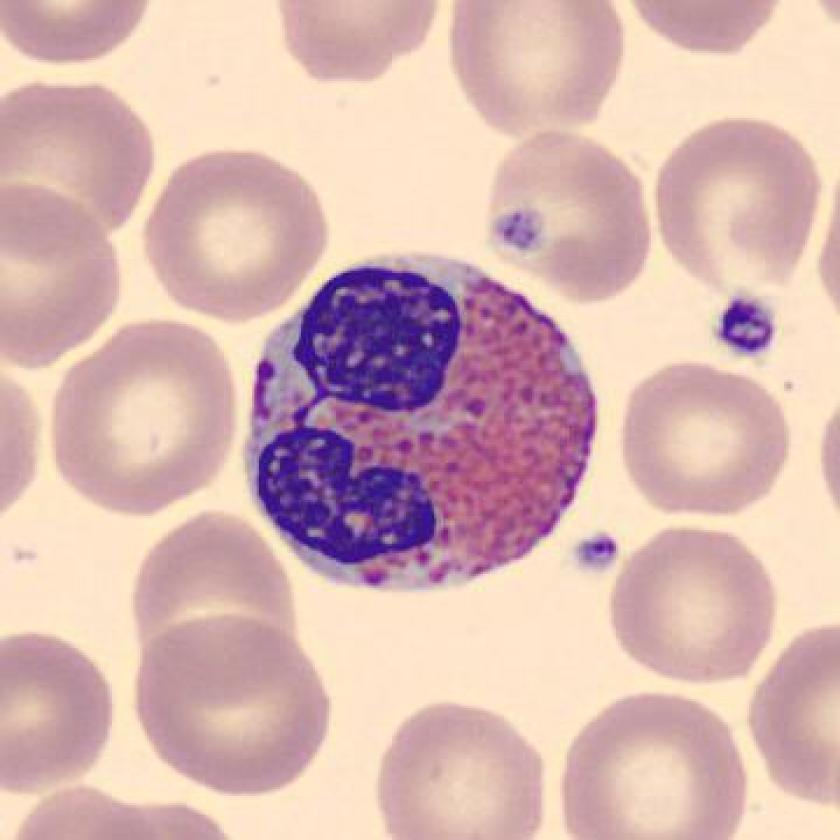eosinophil: (225, 240, 608, 608)
